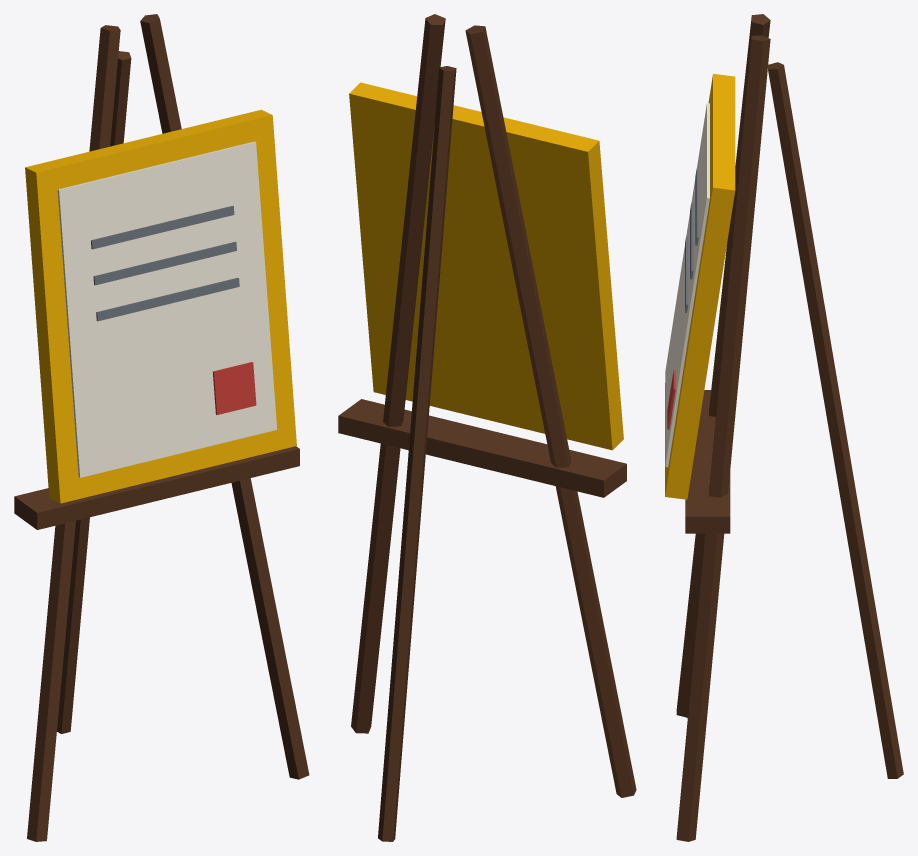
Rendered from station_processing_ausstattung_1_0.glb.
3 views of the same model, side by side, from view 1: azimuth 30°, elevation 25°; view 2: azimuth 150°, elevation 25°; view 3: azimuth 270°, elevation 25° (orthographic). The views are drawn at different scales.
Parts seen in each view (by area): view 1: station_processing_ausstattung_1_0; view 2: station_processing_ausstattung_1_0; view 3: station_processing_ausstattung_1_0.
Boxes of the visible parts, x1,y1,x2,y2 form: station_processing_ausstattung_1_0: (14,14,309,841); station_processing_ausstattung_1_0: (338,14,636,841); station_processing_ausstattung_1_0: (665,14,903,841).
Bounding box in the file's own units: 0.4264 × 1.1 × 0.3187.
